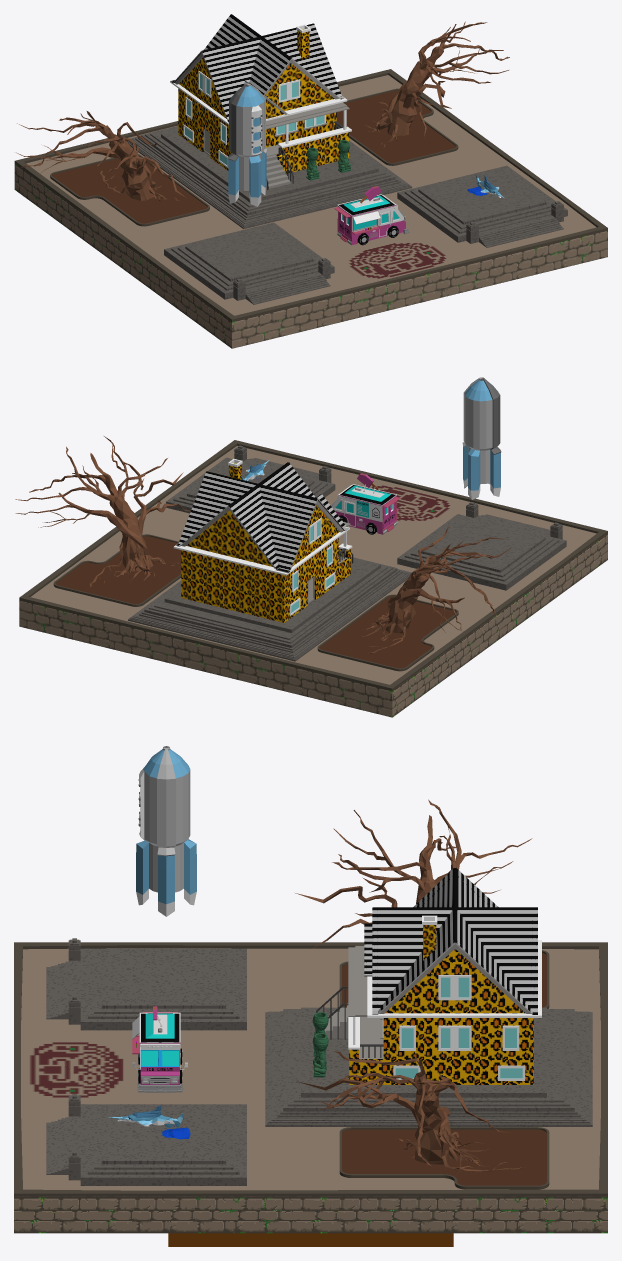
The picture shows the model from 3 angles, top to bottom: view 1: azimuth 30°, elevation 25°; view 2: azimuth 150°, elevation 25°; view 3: azimuth 270°, elevation 25°; orthographic projection. The views are drawn at different scales.
Visible parts, largest first — view 1: Cube.011, Cube.637, OBJRANDOM_ROCKETSHIP, VEHICLES_ICE_CREAM_TRUCK; view 2: Cube.011, Cube.637, OBJRANDOM_ROCKETSHIP, VEHICLES_ICE_CREAM_TRUCK; view 3: Cube.011, Cube.637, OBJRANDOM_ROCKETSHIP, UNDERGROUND_ART_PIECE_VAN_GOGH, VEHICLES_ICE_CREAM_TRUCK, ANIMAL_PEZ_ESPADA.
Part boxes in pixels (x1,y1,x2,y2): Cube.011: (14, 21, 607, 348); Cube.637: (170, 14, 351, 189); OBJRANDOM_ROCKETSHIP: (228, 83, 266, 206); VEHICLES_ICE_CREAM_TRUCK: (334, 186, 409, 245); Cube.011: (15, 436, 607, 717); Cube.637: (173, 459, 353, 622); OBJRANDOM_ROCKETSHIP: (462, 377, 501, 499); VEHICLES_ICE_CREAM_TRUCK: (331, 473, 400, 534); Cube.011: (14, 799, 607, 1233); Cube.637: (316, 867, 541, 1084); OBJRANDOM_ROCKETSHIP: (136, 746, 196, 916); UNDERGROUND_ART_PIECE_VAN_GOGH: (168, 1233, 453, 1246); VEHICLES_ICE_CREAM_TRUCK: (132, 1006, 187, 1092); ANIMAL_PEZ_ESPADA: (108, 1105, 190, 1139).
Bounding box in the file's own units: 5099 × 2301 × 4000.
44 materials, 7 textured.
